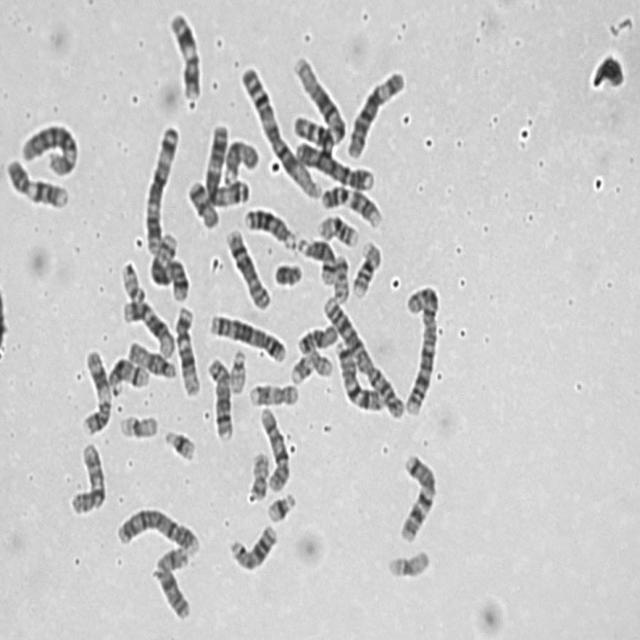A1: (237, 62, 324, 202), (288, 50, 348, 152)
A2: (319, 290, 407, 420), (399, 277, 442, 417)
A3: (140, 118, 181, 254), (200, 119, 252, 208)
B4: (290, 135, 376, 193), (112, 501, 202, 556)
B5: (205, 308, 289, 365), (146, 226, 190, 302)
C10: (66, 436, 108, 516), (256, 403, 291, 493)
C11: (165, 7, 203, 101), (78, 344, 112, 437)
C12: (119, 294, 177, 359), (171, 301, 202, 398)
C6: (343, 64, 407, 160), (17, 117, 79, 177)
C7: (332, 334, 386, 414), (395, 447, 439, 544)
C8: (222, 223, 272, 311), (203, 352, 235, 442)
C9: (2, 153, 70, 210), (318, 181, 384, 229)
D13: (225, 518, 279, 573), (240, 203, 296, 250)
D14: (294, 232, 338, 286), (104, 353, 150, 396)
D15: (123, 336, 178, 380), (219, 135, 259, 187)
E16: (347, 236, 384, 298), (314, 209, 360, 249)
E17: (287, 344, 334, 386), (245, 378, 300, 408)
E18: (183, 175, 220, 231), (294, 319, 339, 356)
F19: (383, 544, 431, 580), (114, 408, 160, 442)
F20: (245, 446, 271, 503), (330, 249, 351, 305)
G21: (160, 424, 197, 463), (263, 488, 297, 524)
G22: (117, 257, 147, 304), (226, 344, 248, 396)
X: (149, 541, 192, 622)
Y: (270, 258, 304, 288)
